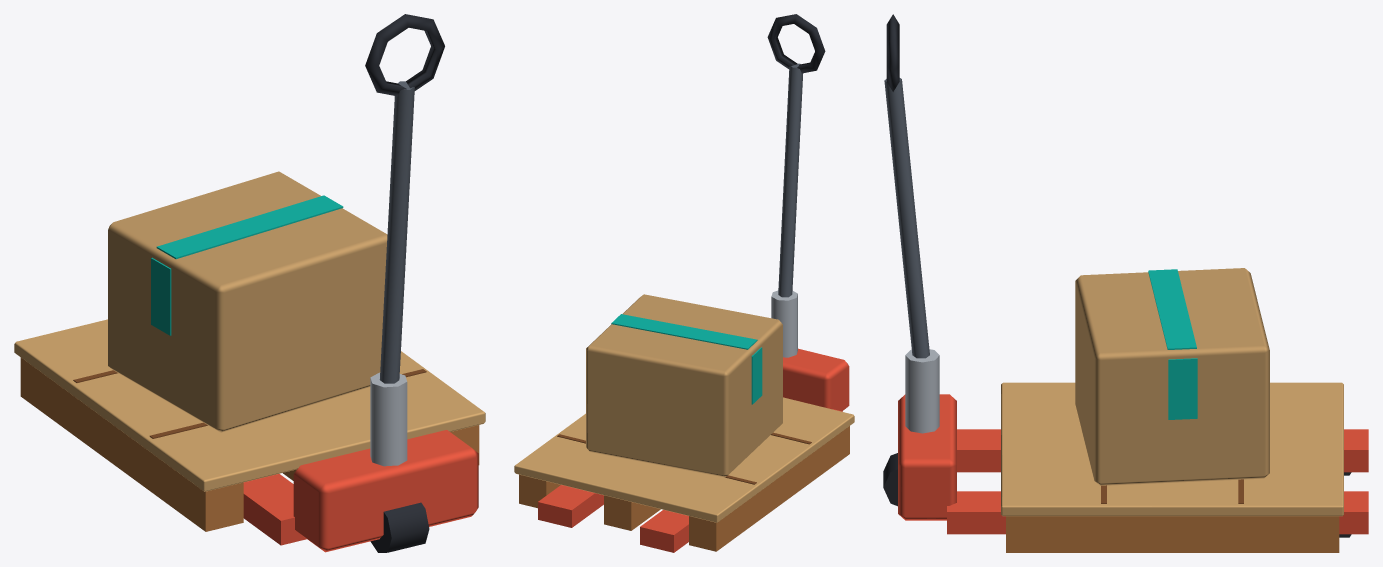
File: station_buffer_ausstattung_2_1.glb
3 renders of one model, left to right at view 1: azimuth 30°, elevation 25°; view 2: azimuth 150°, elevation 25°; view 3: azimuth 270°, elevation 25°, orthographic. The views are drawn at different scales.
Visible parts, largest first — view 1: station_buffer_ausstattung_2_1; view 2: station_buffer_ausstattung_2_1; view 3: station_buffer_ausstattung_2_1.
Boxes of the visible parts, <box> form: station_buffer_ausstattung_2_1: <box>14,14,485,552</box>; station_buffer_ausstattung_2_1: <box>514,14,854,552</box>; station_buffer_ausstattung_2_1: <box>883,14,1368,552</box>.
Size of the model in its own units: 0.6 by 1.09 by 0.99.
